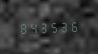eight: (17, 21, 26, 34)
five: (48, 20, 57, 33)
four: (27, 20, 36, 34)
six: (68, 19, 77, 33)
three: (38, 20, 47, 34), (58, 19, 67, 33)
